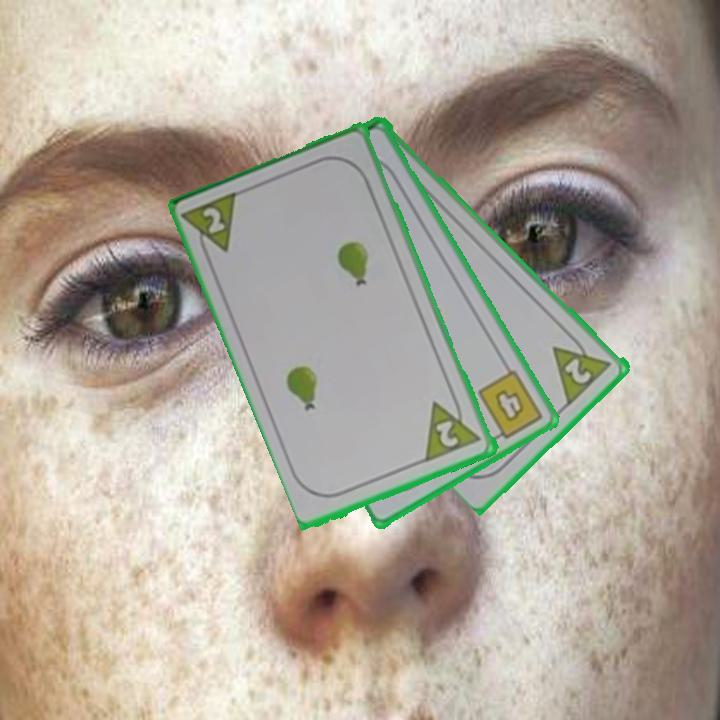2p: (549, 328, 615, 407), (181, 187, 243, 265), (422, 391, 486, 465)
4b: (474, 366, 547, 445)
